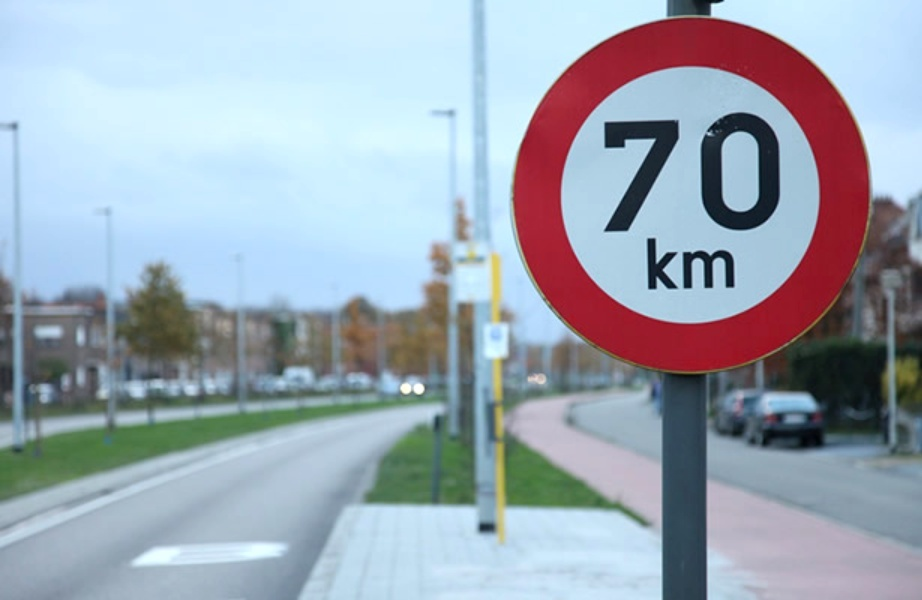text: (769, 109, 785, 233), (609, 109, 624, 233), (625, 109, 640, 233), (641, 109, 656, 233), (657, 109, 672, 233), (673, 109, 688, 233), (689, 109, 704, 233), (705, 109, 720, 233), (721, 109, 736, 233), (737, 109, 752, 233), (753, 109, 768, 233), (657, 236, 672, 292), (673, 236, 688, 292), (689, 236, 704, 292), (705, 236, 720, 292), (721, 236, 736, 292), (602, 109, 608, 233), (645, 236, 656, 292), (737, 236, 738, 292)
